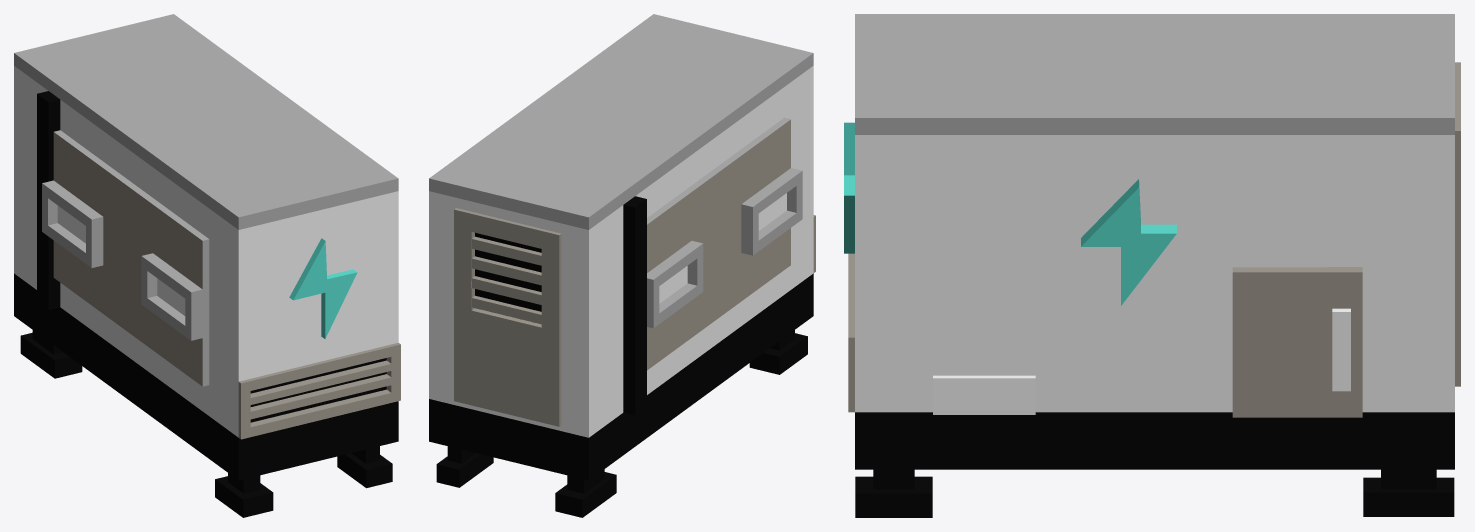
Rendered from drakePOWERBOX (1).fbx.
3 renders of one model, left to right at view 1: azimuth 30°, elevation 25°; view 2: azimuth 150°, elevation 25°; view 3: azimuth 270°, elevation 25°, orthographic. The views are drawn at different scales.
Parts seen in each view (by area): view 1: Cube; view 2: Cube; view 3: Cube.
Part boxes in pixels (left/top/right/bottom): Cube: left=14, top=14, right=400, bottom=517; Cube: left=429, top=14, right=815, bottom=517; Cube: left=844, top=14, right=1460, bottom=517.
Size of the model in its own units: 471 by 709 by 982.
